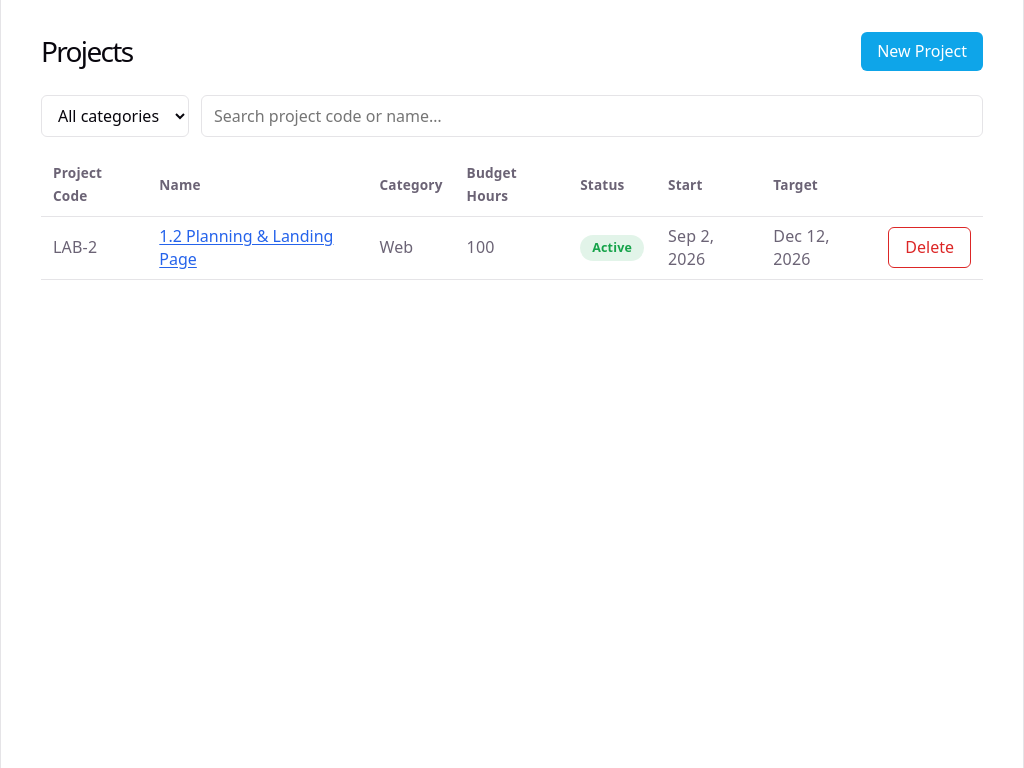
Projects page › expands project details and loads associated tasks
Click the button "1.2 Planning & Landing Page". click: [257, 248]
box: [159,225,355,271]
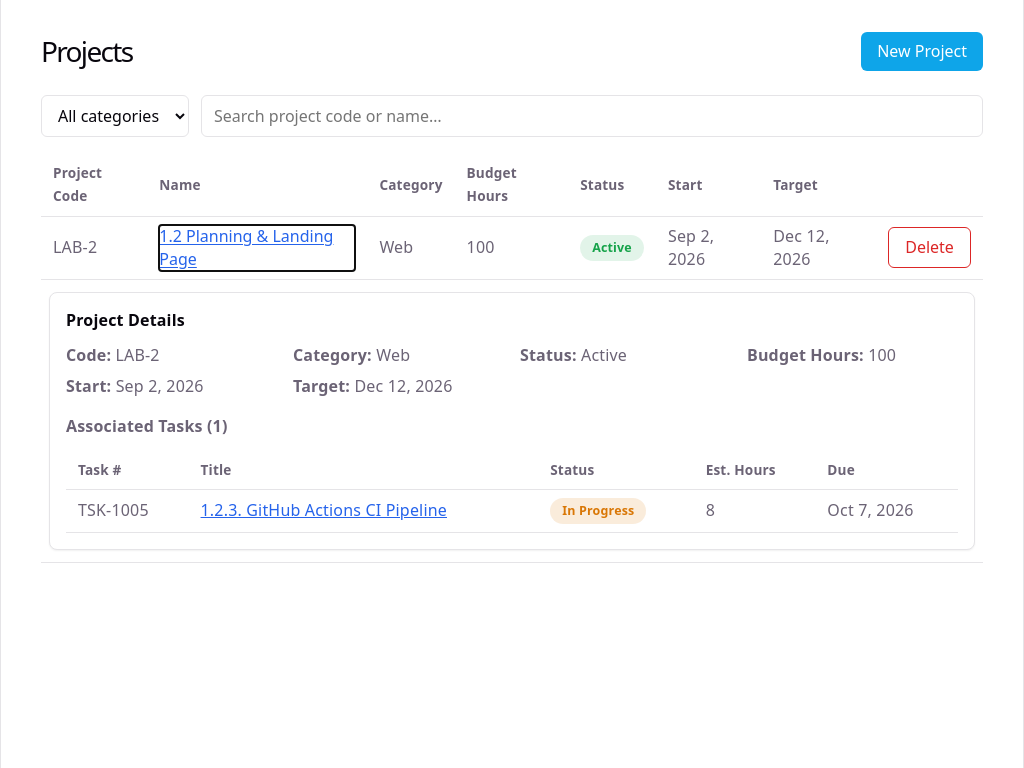
expect the heading "Associated Tasks (1)" is shown: met, box [66,415,228,437]
expect the text "TSK-1005" is shown: met, box [66,490,188,532]
expect the link "1.2.3. GitHub Actions CI Pipeline" is shown: met, box [200,499,447,521]
